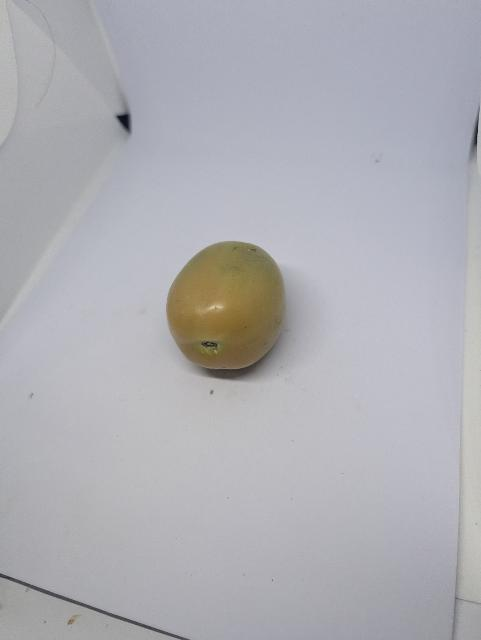breaker: (161, 233, 299, 382)
